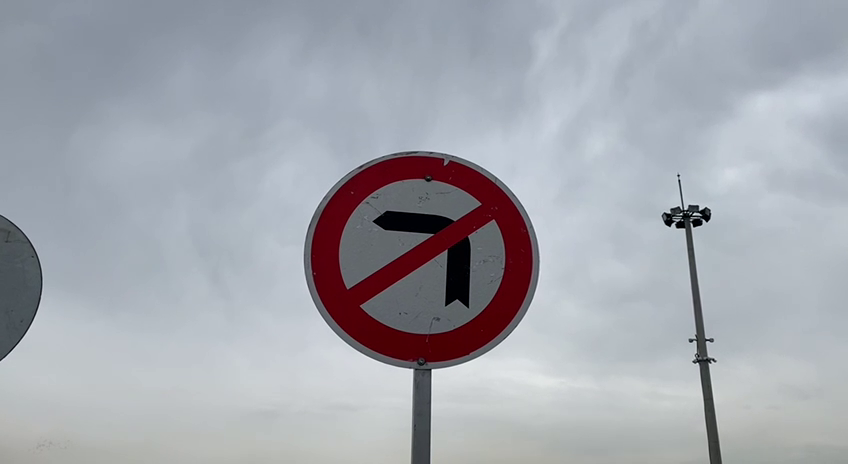noTurnLeft: (301, 148, 542, 371)
